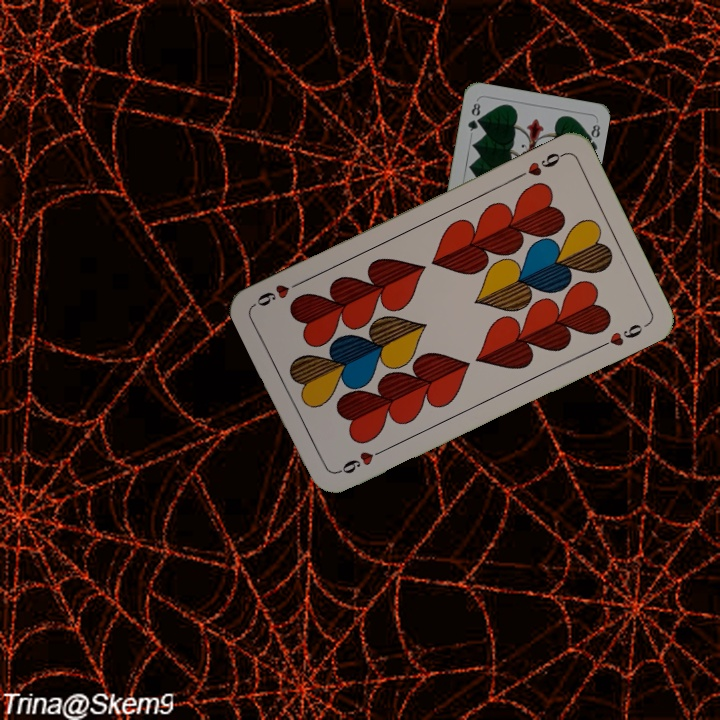G8: (463, 99, 483, 134)
H9: (512, 148, 568, 181), (333, 444, 389, 477)
